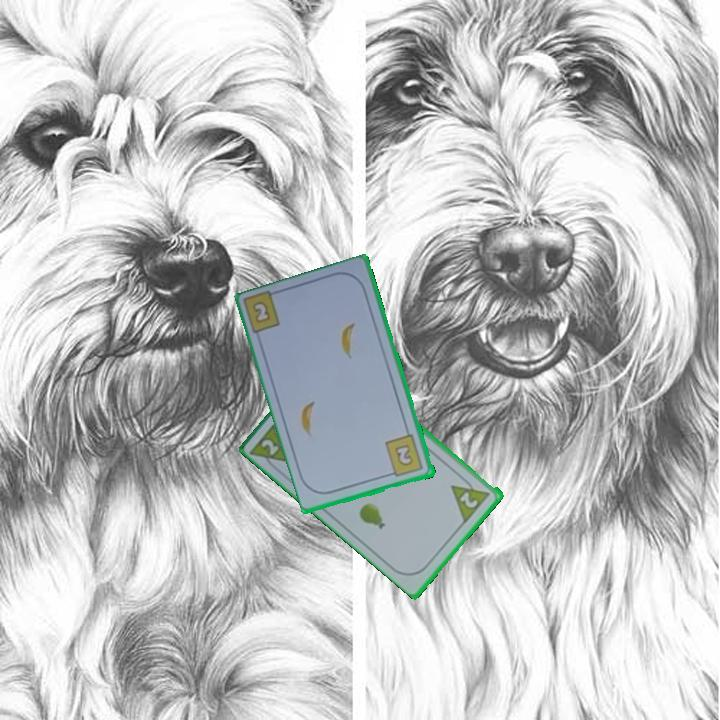2b: (382, 431, 426, 480), (251, 300, 272, 324)
2p: (448, 471, 493, 525), (258, 435, 282, 458)
